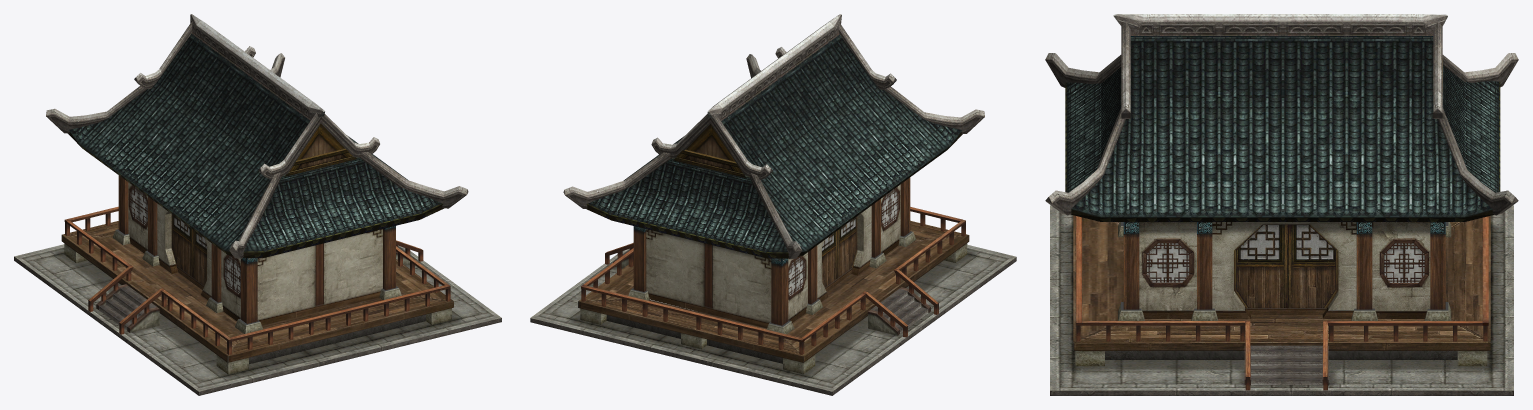
The model's file is gls_b_01.glb.
The picture shows the model from 3 angles, left to right: view 1: azimuth 30°, elevation 25°; view 2: azimuth 150°, elevation 25°; view 3: azimuth 270°, elevation 25°; orthographic projection. The views are drawn at different scales.
Parts seen in each view (by area): view 1: gls_B_01; view 2: gls_B_01; view 3: gls_B_01.
Part boxes in pixels (x1=…): gls_B_01: x1=14, y1=14, x2=501, y2=395; gls_B_01: x1=530, y1=14, x2=1016, y2=395; gls_B_01: x1=1045, y1=14, x2=1518, y2=395.
Bounding box in the file's own units: 14.73 × 10.7 × 15.9.
Materials: 3 (3 with a texture image).
